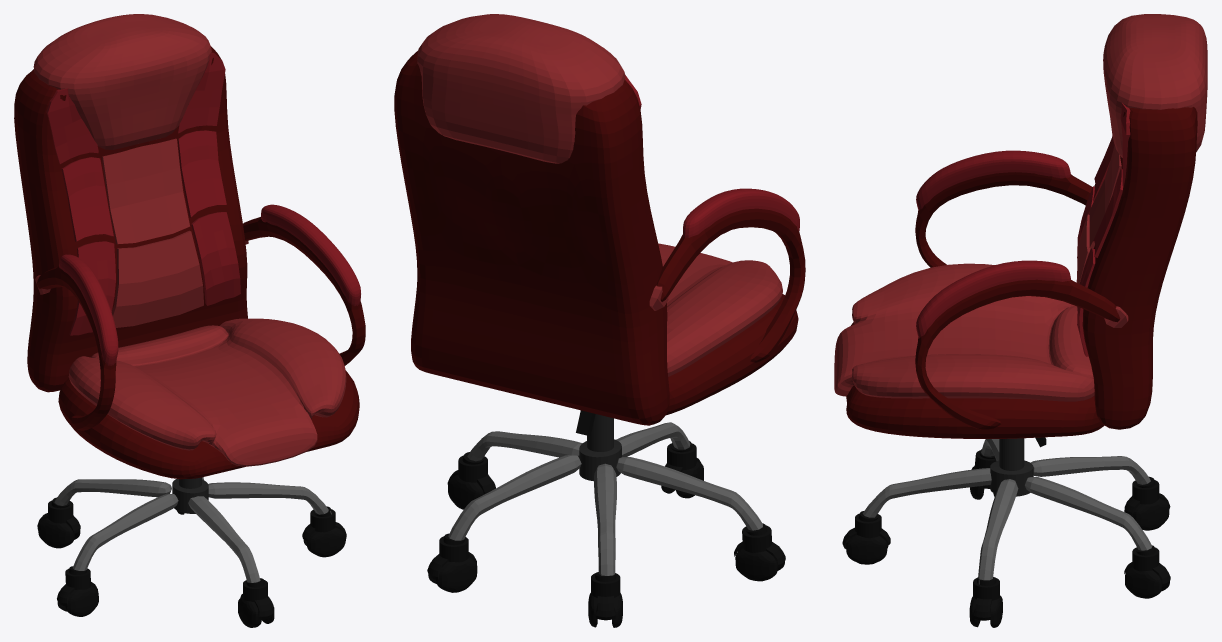
Rendered from cadeira_diretor.fbx.
3 renders of one model, left to right at view 1: azimuth 30°, elevation 25°; view 2: azimuth 150°, elevation 25°; view 3: azimuth 270°, elevation 25°, orthographic. The views are drawn at different scales.
Parts seen in each view (by area): view 1: cadeira_diretor; view 2: cadeira_diretor; view 3: cadeira_diretor.
Part boxes in pixels (x1=…): cadeira_diretor: x1=14, y1=14, x2=365, y2=627; cadeira_diretor: x1=394, y1=14, x2=805, y2=627; cadeira_diretor: x1=834, y1=14, x2=1207, y2=627.
Size of the model in its own units: 279 by 464 by 296.
